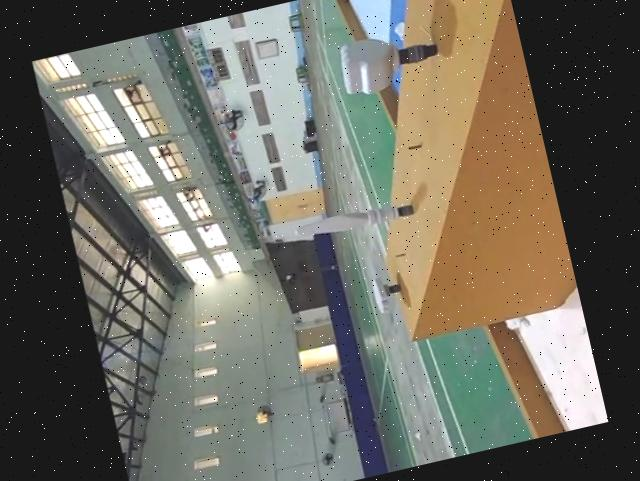Fist: (330, 17, 444, 97)
Hand: (365, 267, 404, 311)
Sph: (266, 187, 420, 249)
